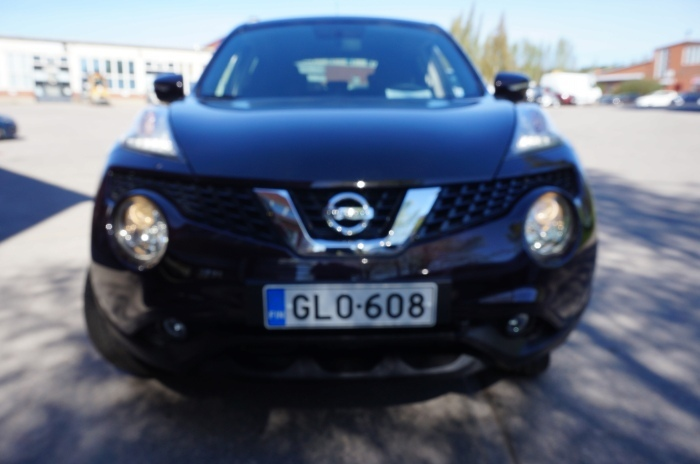license: (259, 282, 439, 330)
